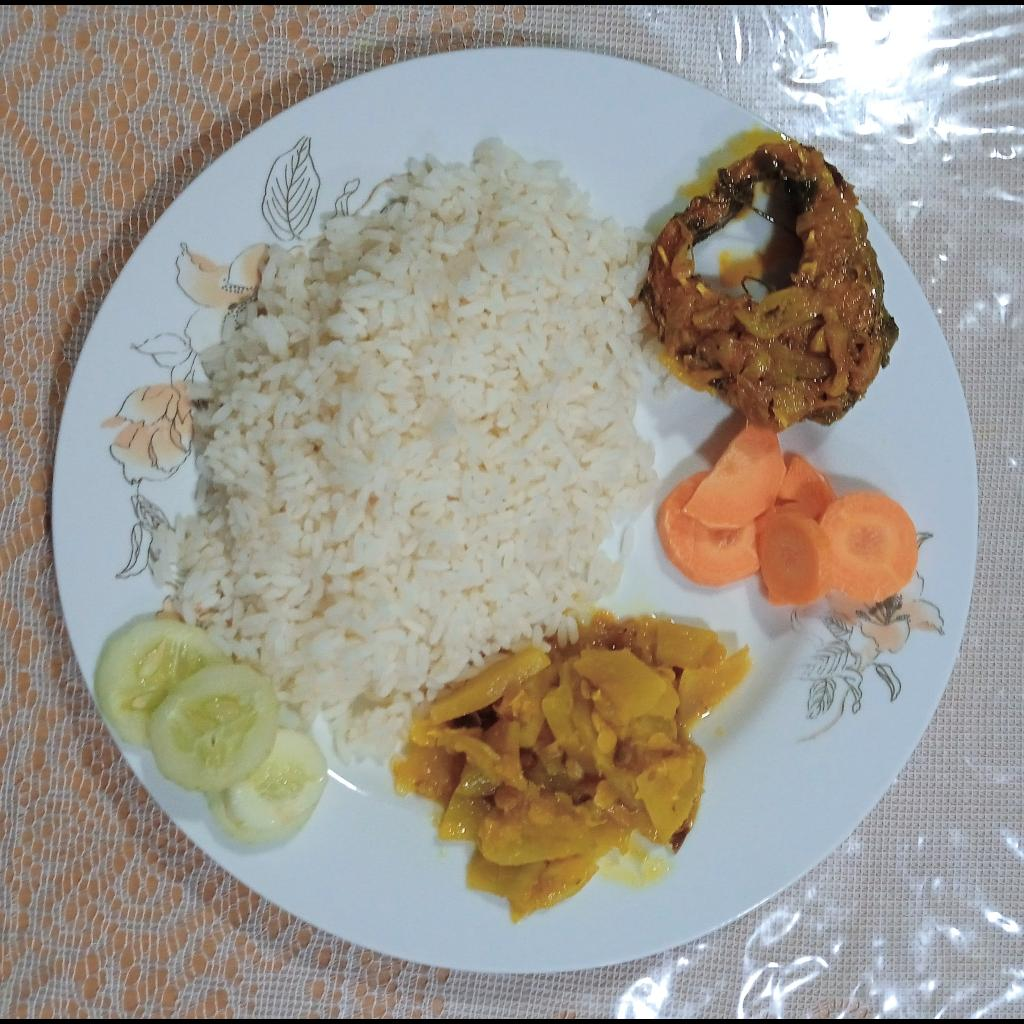carrot: (656, 427, 919, 609)
cucumber: (96, 619, 329, 846)
fish: (648, 141, 900, 429), (691, 181, 800, 299)
lau: (396, 616, 750, 919)
rice: (160, 144, 656, 764)
